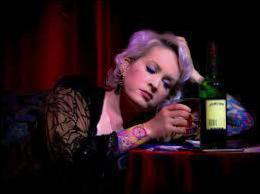Drunk: (133, 51, 180, 107)
